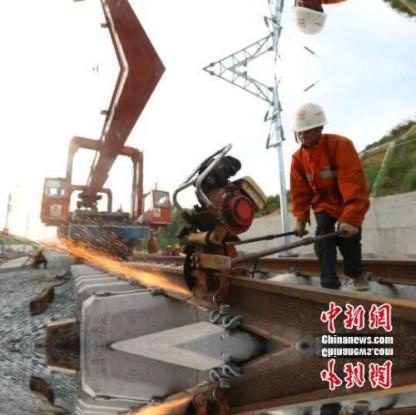Safety Helmet: (291, 99, 331, 156), (288, 1, 332, 40)
